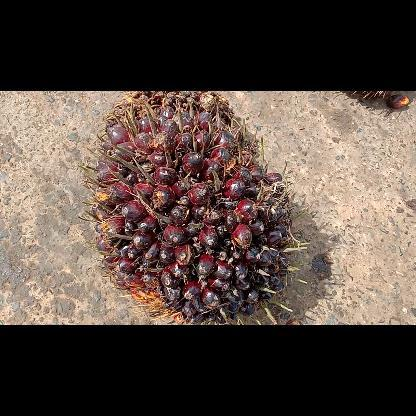Kurang masak: (77, 101, 309, 324)
TBS abnormal: (102, 90, 242, 130)
